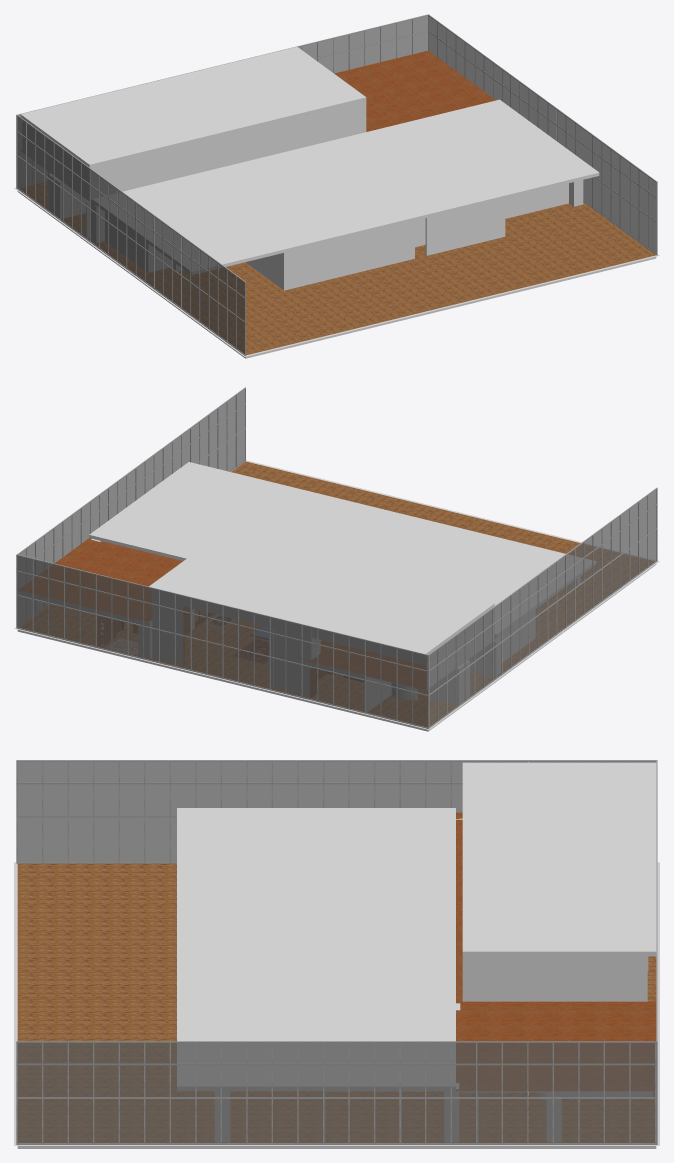
File: ELJ_ARQ.glb
3 views of the same model, one above another, from view 1: azimuth 30°, elevation 25°; view 2: azimuth 150°, elevation 25°; view 3: azimuth 270°, elevation 25° (orthographic). The views are drawn at different scales.
Parts seen in each view (by area): view 1: ARQ_2_2, ARQ_2_1, ARQ_1_3, ARQ_0_1, ARQ_4_1, ARQ_1_1, ARQ_2_3, ARQ_3_1, ARQ_0_3, ARQ_0_2; view 2: ARQ_2_2, ARQ_2_3, ARQ_1_3, ARQ_2_1, ARQ_0_1, ARQ_4_1, ARQ_0_3, ARQ_3_2, ARQ_3_3, ARQ_1_1, ARQ_0_2; view 3: ARQ_2_2, ARQ_2_1, ARQ_4_1, ARQ_1_3, ARQ_0_1, ARQ_3_3, ARQ_3_2, ARQ_2_3, ARQ_3_1.
Boxes of the visible parts, x1=… form: ARQ_2_2: x1=21, y1=50, x2=599, y2=274; ARQ_2_1: x1=14, y1=181, x2=659, y2=358; ARQ_1_3: x1=20, y1=47, x2=366, y2=199; ARQ_0_1: x1=17, y1=115, x2=245, y2=355; ARQ_4_1: x1=428, y1=14, x2=657, y2=255; ARQ_1_1: x1=105, y1=212, x2=414, y2=290; ARQ_2_3: x1=16, y1=14, x2=428, y2=188; ARQ_3_1: x1=425, y1=180, x2=583, y2=255; ARQ_0_3: x1=49, y1=174, x2=87, y2=218; ARQ_0_2: x1=86, y1=201, x2=104, y2=242; ARQ_2_2: x1=18, y1=462, x2=596, y2=690; ARQ_2_3: x1=16, y1=554, x2=429, y2=728; ARQ_1_3: x1=149, y1=536, x2=494, y2=697; ARQ_2_1: x1=14, y1=460, x2=659, y2=731; ARQ_0_1: x1=428, y1=487, x2=657, y2=728; ARQ_4_1: x1=17, y1=387, x2=245, y2=626; ARQ_0_3: x1=366, y1=660, x2=469, y2=711; ARQ_3_2: x1=91, y1=539, x2=194, y2=665; ARQ_3_3: x1=22, y1=593, x2=138, y2=655; ARQ_1_1: x1=503, y1=610, x2=535, y2=661; ARQ_0_2: x1=469, y1=636, x2=500, y2=677; ARQ_2_2: x1=177, y1=808, x2=656, y2=1102; ARQ_2_1: x1=14, y1=862, x2=659, y2=1148; ARQ_4_1: x1=16, y1=1041, x2=656, y2=1144; ARQ_1_3: x1=462, y1=762, x2=656, y2=1001; ARQ_0_1: x1=16, y1=760, x2=656, y2=863; ARQ_3_3: x1=547, y1=1093, x2=652, y2=1141; ARQ_3_2: x1=401, y1=985, x2=647, y2=1142; ARQ_2_3: x1=656, y1=760, x2=657, y2=1144; ARQ_3_1: x1=215, y1=1091, x2=324, y2=1142.
Bounding box in the file's own units: 40.11 × 7.1 × 38.58.
76 materials, 44 textured.
